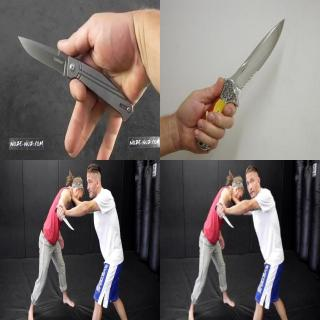knife: (195, 15, 287, 127), (14, 29, 96, 101), (213, 203, 235, 229), (54, 205, 74, 232)
